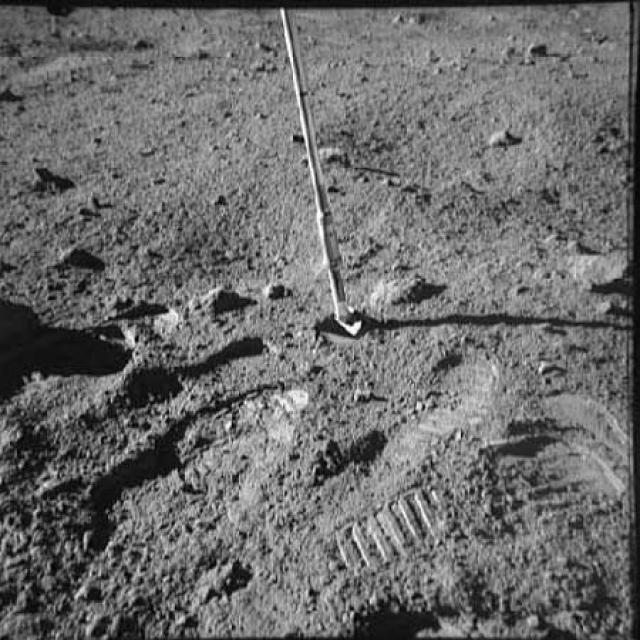rock: (561, 247, 634, 300), (365, 268, 436, 312), (188, 272, 236, 324), (469, 125, 540, 156), (97, 292, 159, 324), (25, 164, 72, 199), (308, 138, 354, 172), (50, 240, 96, 273), (502, 35, 557, 62), (70, 192, 109, 221), (238, 57, 284, 81), (118, 33, 162, 53), (0, 73, 25, 105), (263, 280, 285, 308)
